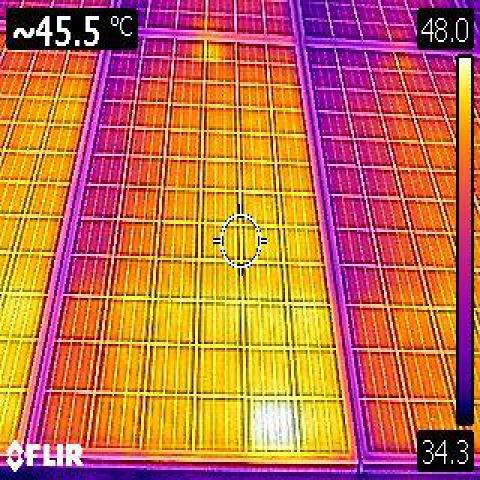fault: (248, 396, 298, 455)
